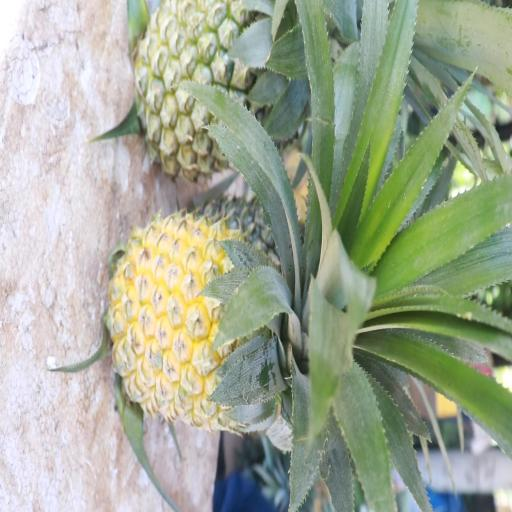------------------------------: (138, 0, 328, 174)
Pineapple - v8 v1: (114, 213, 362, 421)
